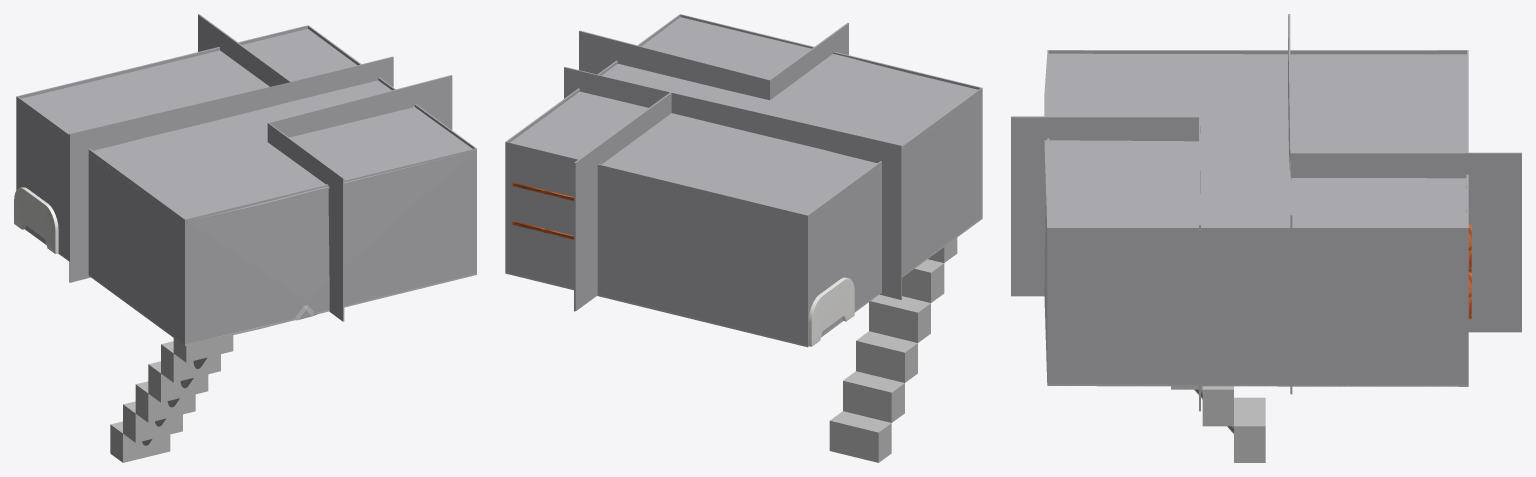
The model's file is Newhomeupstairs6.fbx.
The picture shows the model from 3 angles, left to right: view 1: azimuth 30°, elevation 25°; view 2: azimuth 150°, elevation 25°; view 3: azimuth 270°, elevation 25°; orthographic projection. The views are drawn at different scales.
Visible parts, largest first — view 1: Plane.003, Cylinder, Bed.001, Plane.002; view 2: Plane.003, Cylinder, Bed.001, Plane.002; view 3: Plane.003, Cylinder, Plane.002.
Part boxes in pixels (left/top/right/bottom): Plane.003: left=16, top=14, right=476, bottom=345; Cylinder: left=110, top=335, right=233, bottom=462; Bed.001: left=14, top=187, right=58, bottom=254; Plane.002: left=25, top=228, right=476, bottom=345; Plane.003: left=505, top=14, right=982, bottom=345; Cylinder: left=829, top=238, right=957, bottom=462; Bed.001: left=808, top=277, right=854, bottom=346; Plane.002: left=505, top=217, right=982, bottom=347; Plane.003: left=1011, top=14, right=1521, bottom=411; Cylinder: left=1171, top=386, right=1265, bottom=462; Plane.002: left=1044, top=294, right=1468, bottom=386.
Size of the model in its own units: 7012 by 6215 by 7165.
